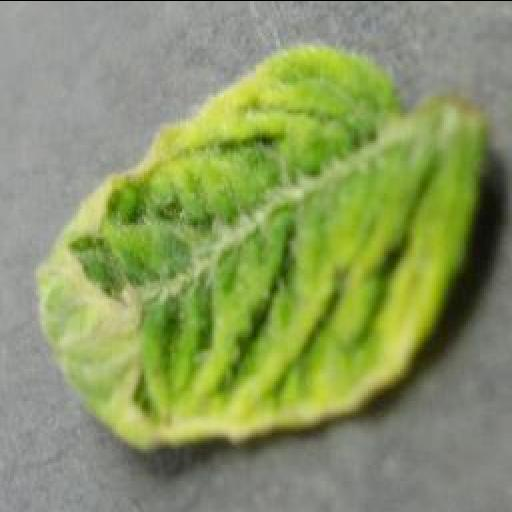disease_tomato: (36, 38, 490, 452)
